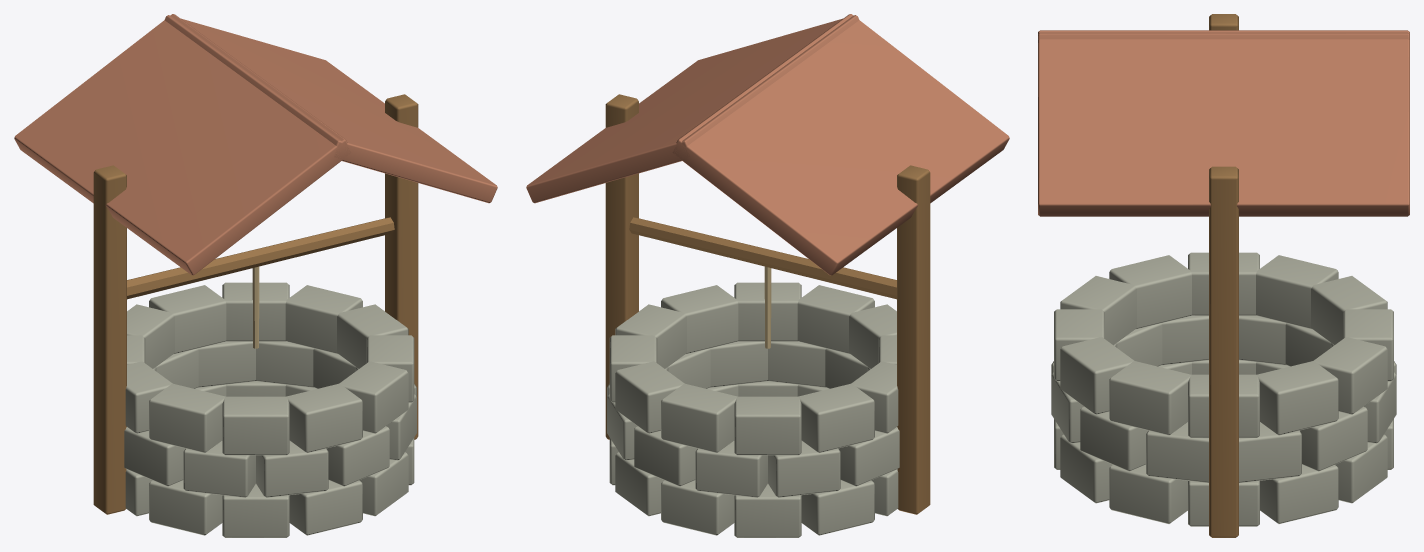
Rendered from well.glb.
3 renders of one model, left to right at view 1: azimuth 30°, elevation 25°; view 2: azimuth 150°, elevation 25°; view 3: azimuth 270°, elevation 25°, orthographic. The views are drawn at different scales.
Parts seen in each view (by area): view 1: well__Well_stone, well__Terra_cotta, well__Well_oak, well__Rope; view 2: well__Well_stone, well__Terra_cotta, well__Well_oak, well__Rope; view 3: well__Well_stone, well__Terra_cotta, well__Well_oak.
Boxes of the visible parts, x1,y1,x2,y2 form: well__Well_stone: (124,282,416,537); well__Terra_cotta: (14,14,497,275); well__Well_oak: (93,94,418,514); well__Rope: (252,266,259,348); well__Well_stone: (607,282,899,537); well__Terra_cotta: (526,14,1009,275); well__Well_oak: (605,94,930,514); well__Rope: (764,266,771,348); well__Well_stone: (1051,252,1396,526); well__Terra_cotta: (1038,30,1409,216); well__Well_oak: (1209,14,1238,537).
Size of the model in its own units: 1.83 by 2.21 by 1.75.
